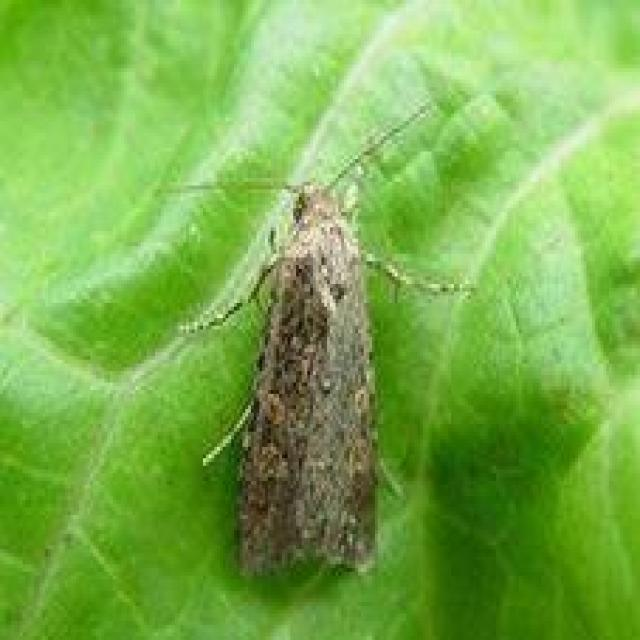BeetArmyWorm-Adult-: (176, 110, 470, 570)
